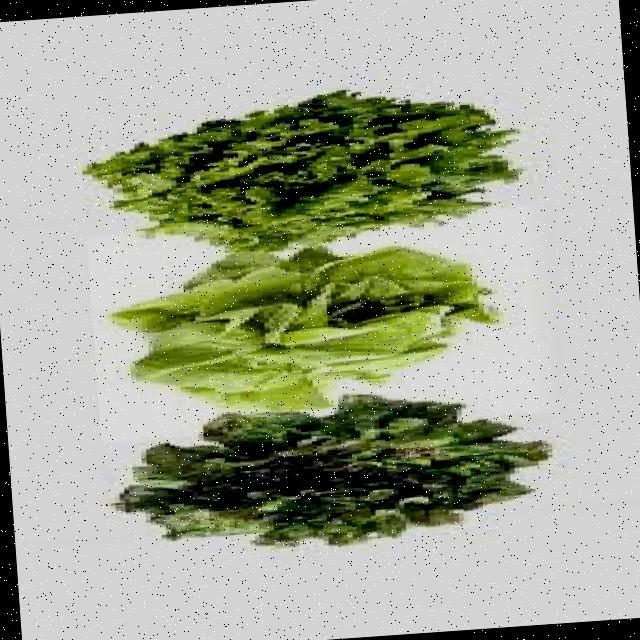Healthy: (142, 404, 523, 540), (120, 258, 468, 390), (151, 103, 480, 239)
